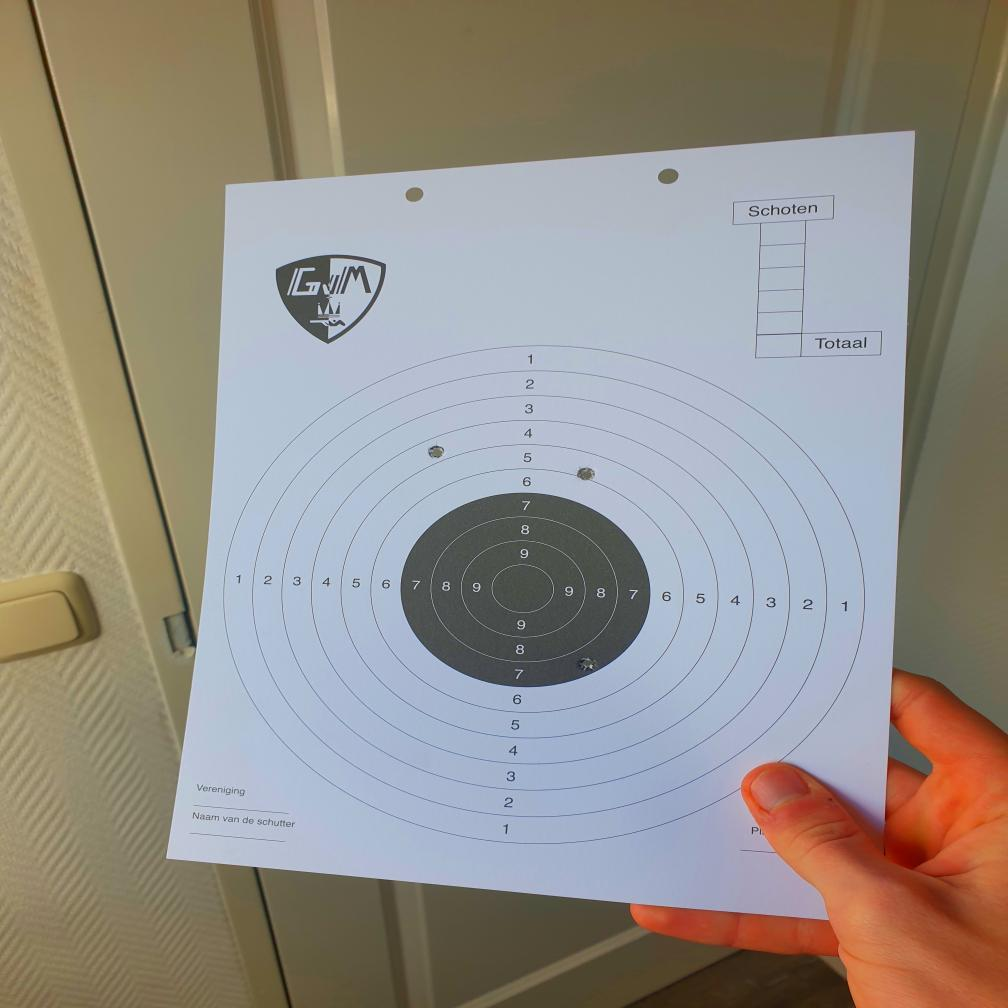4: (426, 444, 446, 459)
6: (575, 465, 596, 482)
7: (576, 656, 598, 672)
Target: (217, 340, 870, 848)
black_contour: (400, 492, 650, 688)
